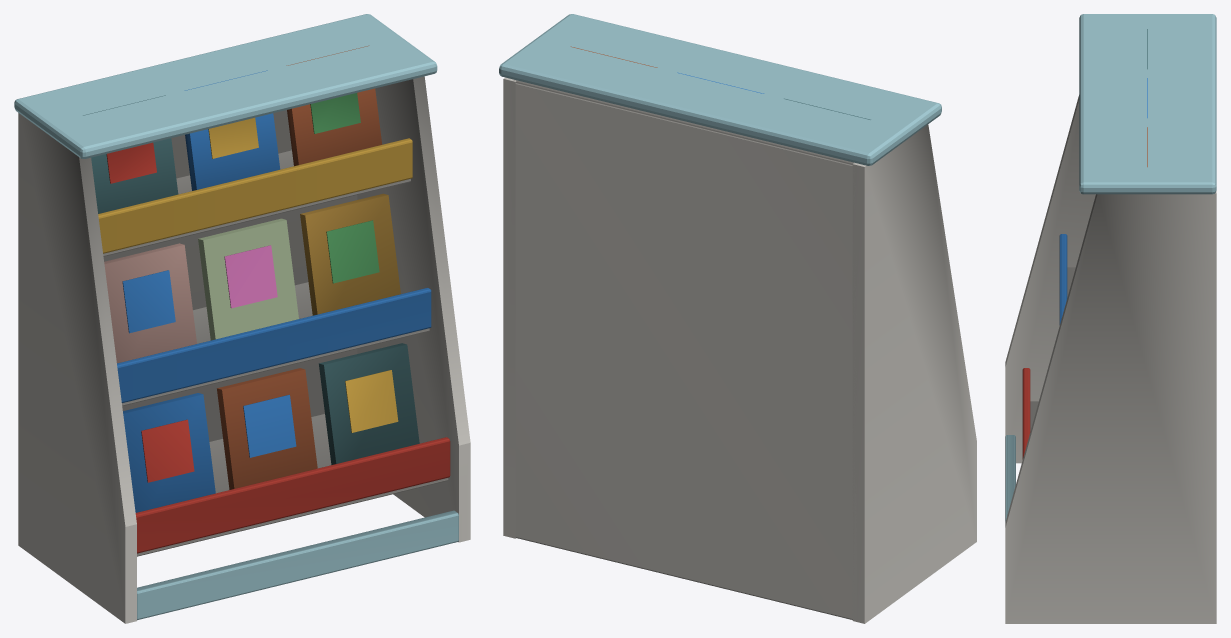
Rendered from kidsBookshelf.glb.
The picture shows the model from 3 angles, left to right: view 1: azimuth 30°, elevation 25°; view 2: azimuth 150°, elevation 25°; view 3: azimuth 270°, elevation 25°; orthographic projection. The views are drawn at different scales.
Parts seen in each view (by area): view 1: body, book; view 2: body; view 3: body.
Part boxes in pixels (x1,y1,x2,y2): body: (14, 14, 470, 623); book: (198, 218, 298, 340); body: (499, 14, 976, 623); body: (1005, 14, 1216, 623).
Size of the model in its own units: 0.77 by 0.9253 by 0.4.
